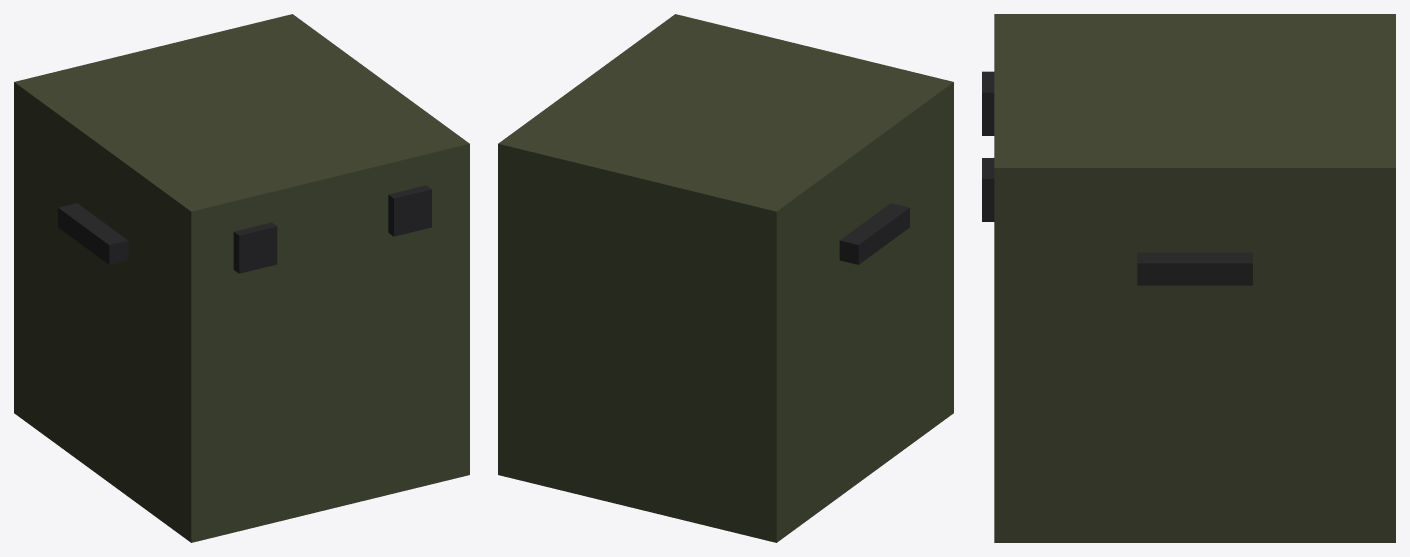
Rendered from crate_cube.glb.
3 renders of one model, left to right at view 1: azimuth 30°, elevation 25°; view 2: azimuth 150°, elevation 25°; view 3: azimuth 270°, elevation 25°, orthographic. The views are drawn at different scales.
Visible parts, largest first — view 1: CrateCube_Body, CrateCube_Lid; view 2: CrateCube_Body, CrateCube_Lid; view 3: CrateCube_Body, CrateCube_Lid.
Part boxes in pixels (x1=…): CrateCube_Body: x1=14, y1=135, x2=469, y2=542; CrateCube_Lid: x1=14, y1=14, x2=469, y2=264; CrateCube_Body: x1=498, y1=135, x2=953, y2=542; CrateCube_Lid: x1=498, y1=14, x2=953, y2=264; CrateCube_Body: x1=982, y1=71, x2=1395, y2=542; CrateCube_Lid: x1=994, y1=14, x2=1395, y2=227.
Bounding box in the file's own units: 0.5 × 0.5 × 0.5.
